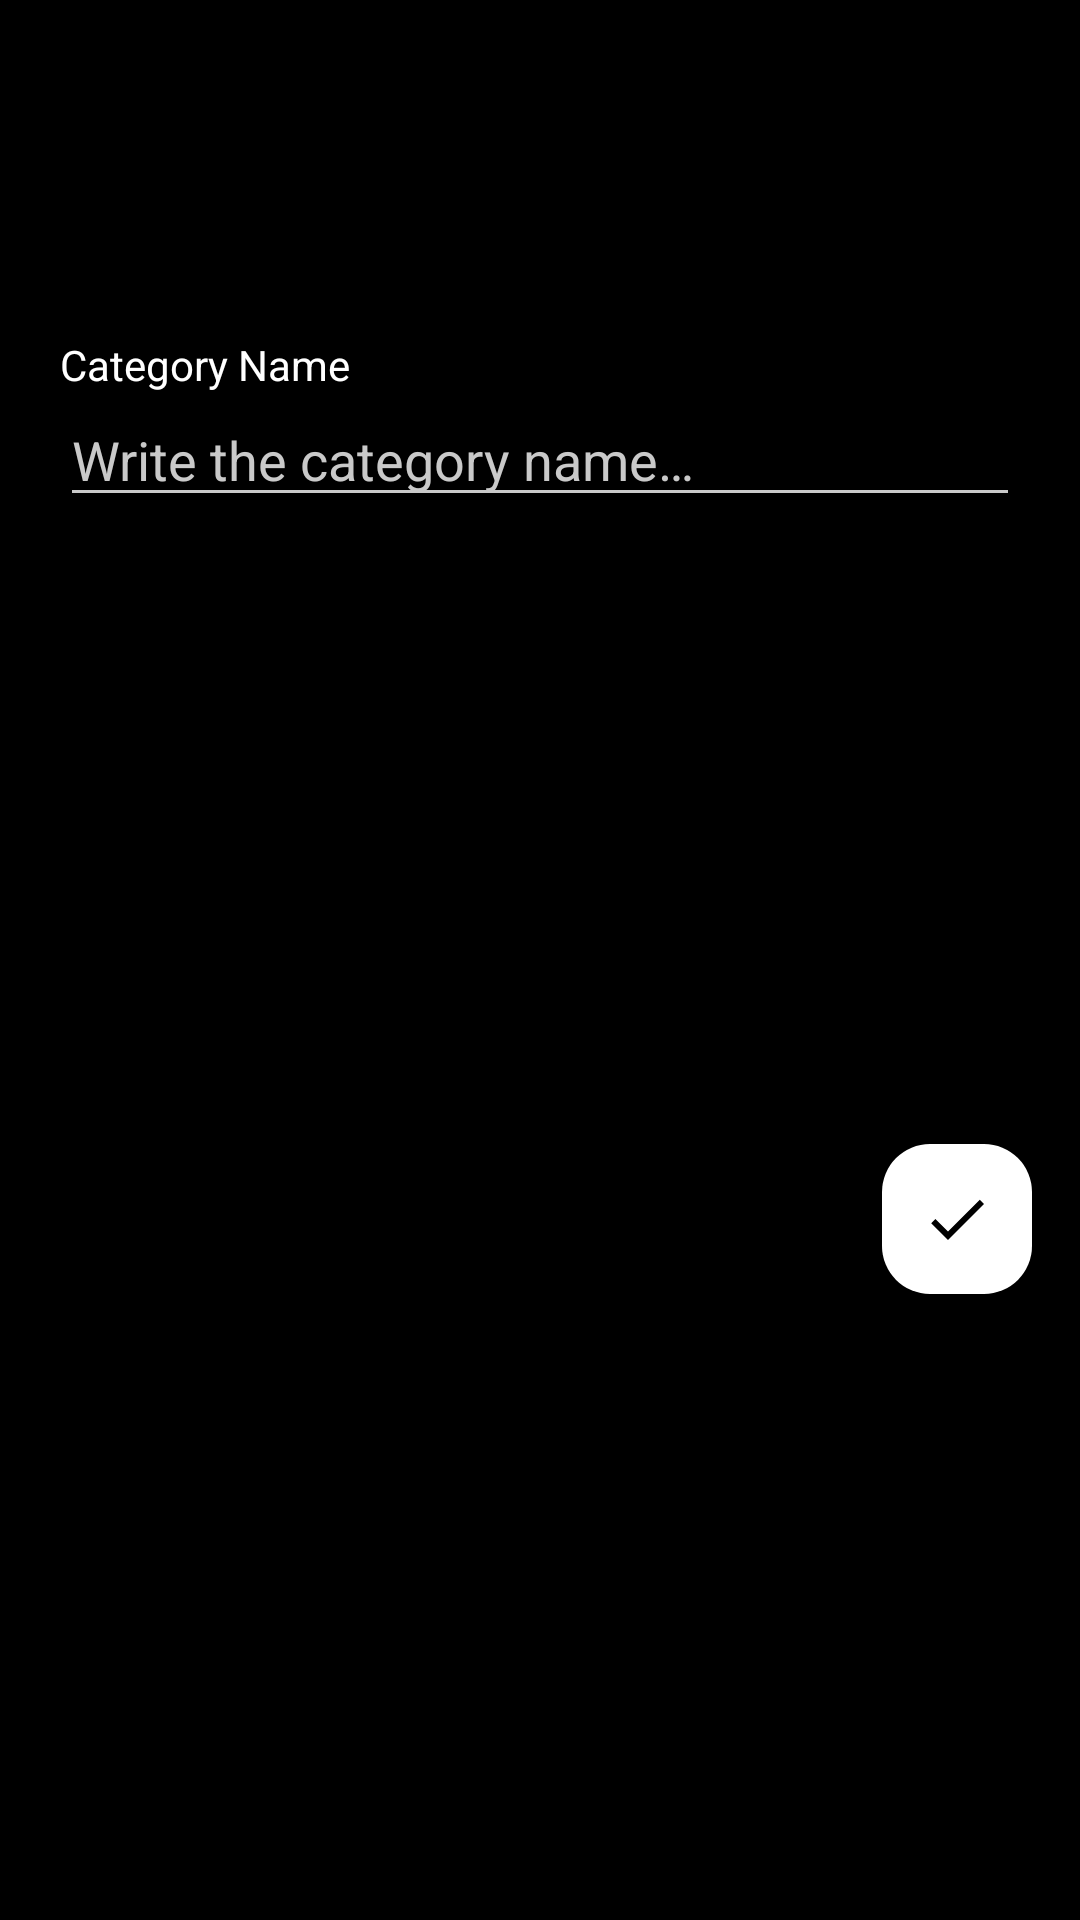

Screen size 1080×1920. Icon name, then its box in pixels as (x1, y1, x2, y2):
Submit: (882, 1144, 1032, 1294)
